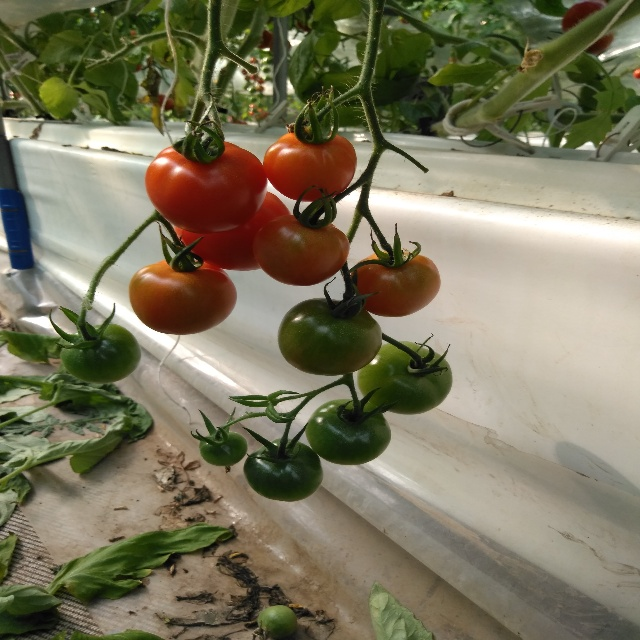l_fully_ripened: (144, 140, 268, 234), (174, 191, 292, 271), (263, 128, 358, 202)
l_green: (277, 298, 382, 376), (357, 341, 453, 415), (306, 398, 392, 466), (244, 438, 324, 502), (60, 323, 142, 384), (200, 430, 248, 466)
l_half_ripened: (129, 259, 238, 335), (253, 215, 350, 286), (350, 251, 442, 318)
